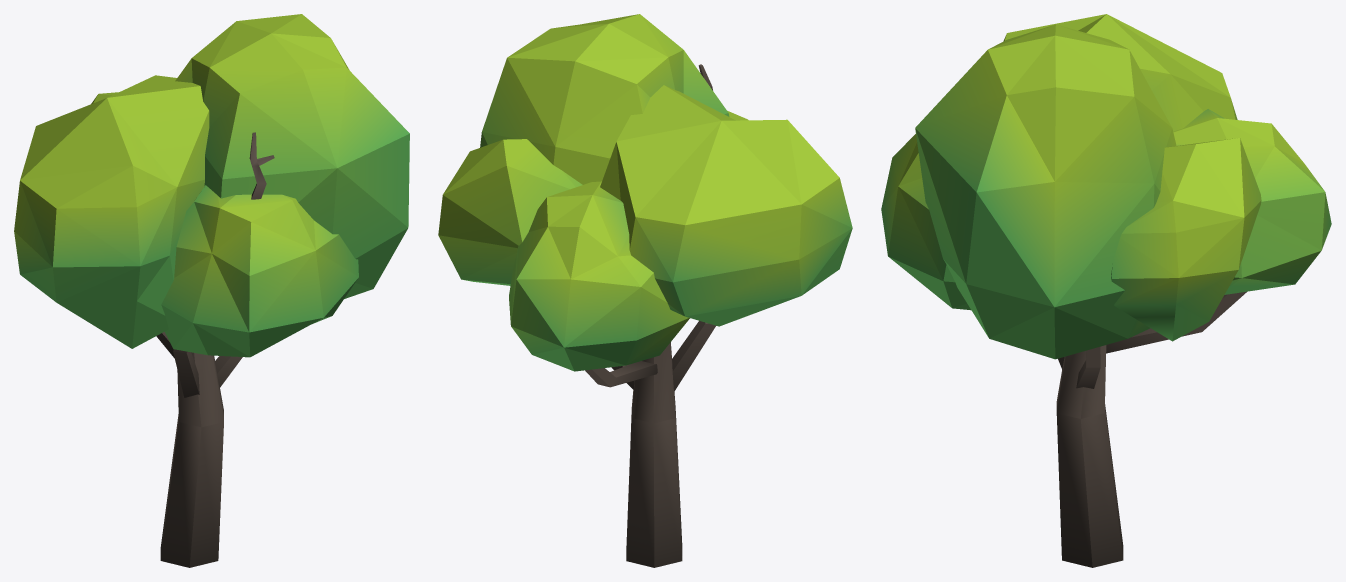
The model's file is tree_6.FBX.
The picture shows the model from 3 angles, left to right: view 1: azimuth 30°, elevation 25°; view 2: azimuth 150°, elevation 25°; view 3: azimuth 270°, elevation 25°; orthographic projection. The views are drawn at different scales.
Visible parts, largest first — view 1: tree_6; view 2: tree_6; view 3: tree_6.
Part boxes in pixels (x1=…): tree_6: x1=14, y1=14, x2=409, y2=567; tree_6: x1=438, y1=14, x2=852, y2=567; tree_6: x1=881, y1=14, x2=1331, y2=567.
Bounding box in the file's own units: 214 × 294 × 218.
